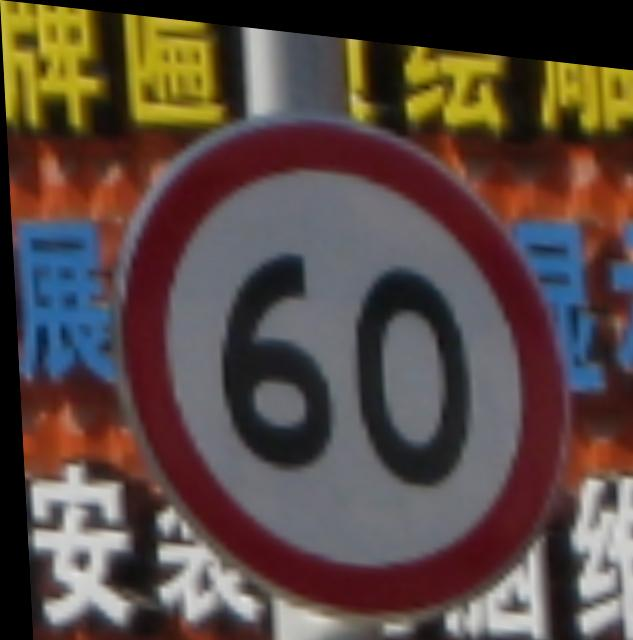limit60: (87, 78, 584, 640)
